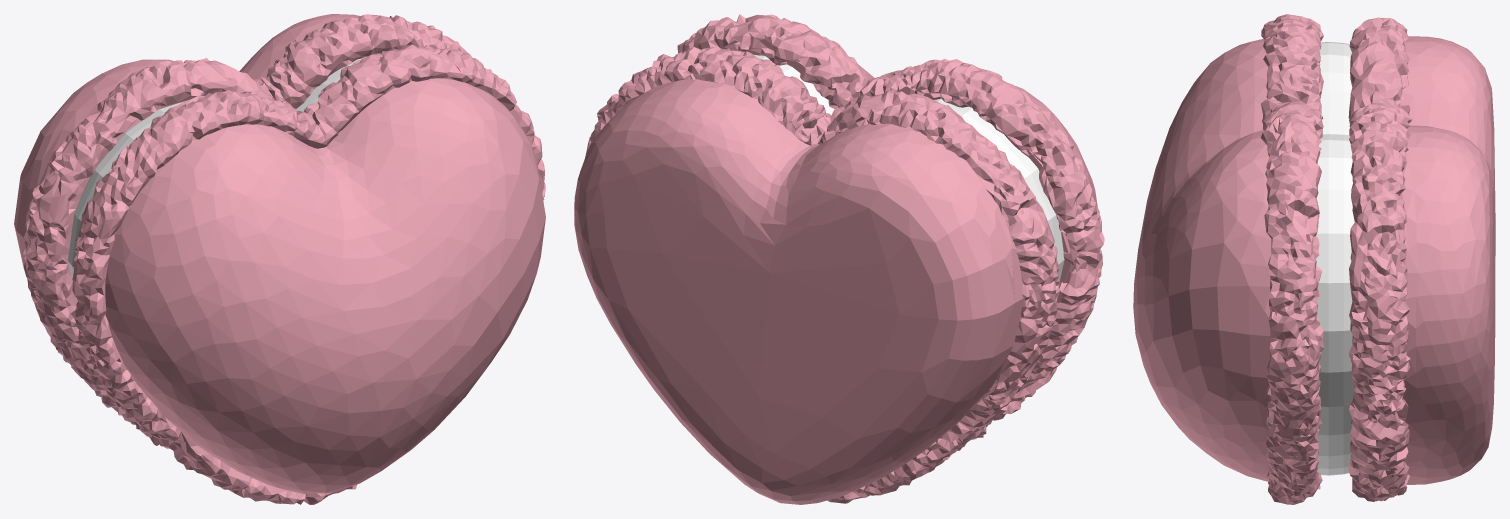
File: heart_macaroon.glb
The picture shows the model from 3 angles, left to right: view 1: azimuth 30°, elevation 25°; view 2: azimuth 150°, elevation 25°; view 3: azimuth 270°, elevation 25°; orthographic projection.
Visible parts, largest first — view 1: heart_macaroon_body, Circle.580; view 2: heart_macaroon_body, Circle.580; view 3: heart_macaroon_body, Circle.580.
Boxes of the visible parts, <box> form: heart_macaroon_body: <box>14,14,545,504</box>; Circle.580: <box>68,54,380,302</box>; heart_macaroon_body: <box>574,14,1104,504</box>; Circle.580: <box>753,54,1064,284</box>; heart_macaroon_body: <box>1133,14,1495,504</box>; Circle.580: <box>1315,42,1354,475</box>.
Size of the model in its own units: 16.89 by 14.65 by 11.36.
